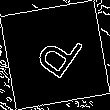P_SW: (25, 24, 85, 86)
